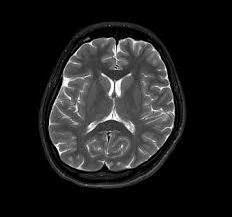Normal_Brain: (10, 14, 204, 217)
